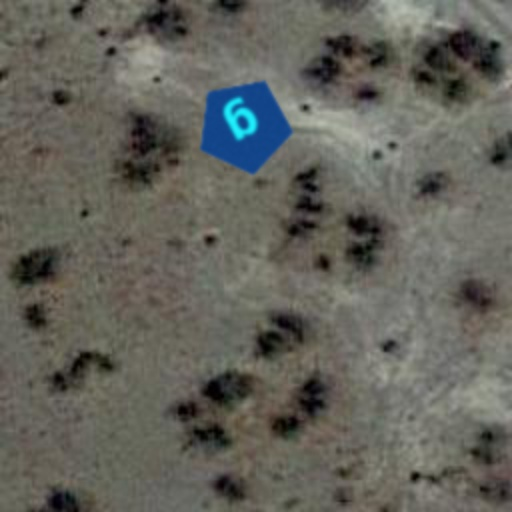pentagon: (174, 56, 314, 196)
